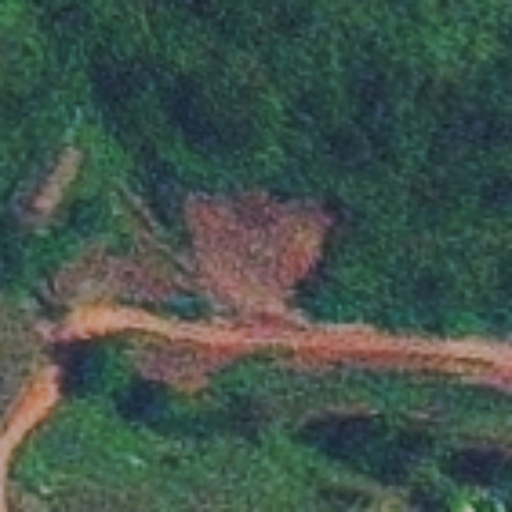landslide: (180, 187, 334, 351), (53, 249, 163, 335)
